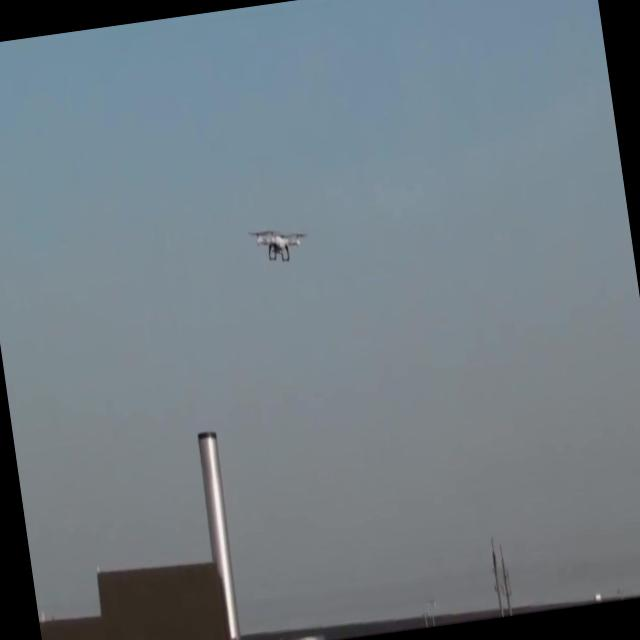drone: (247, 220, 312, 270)
